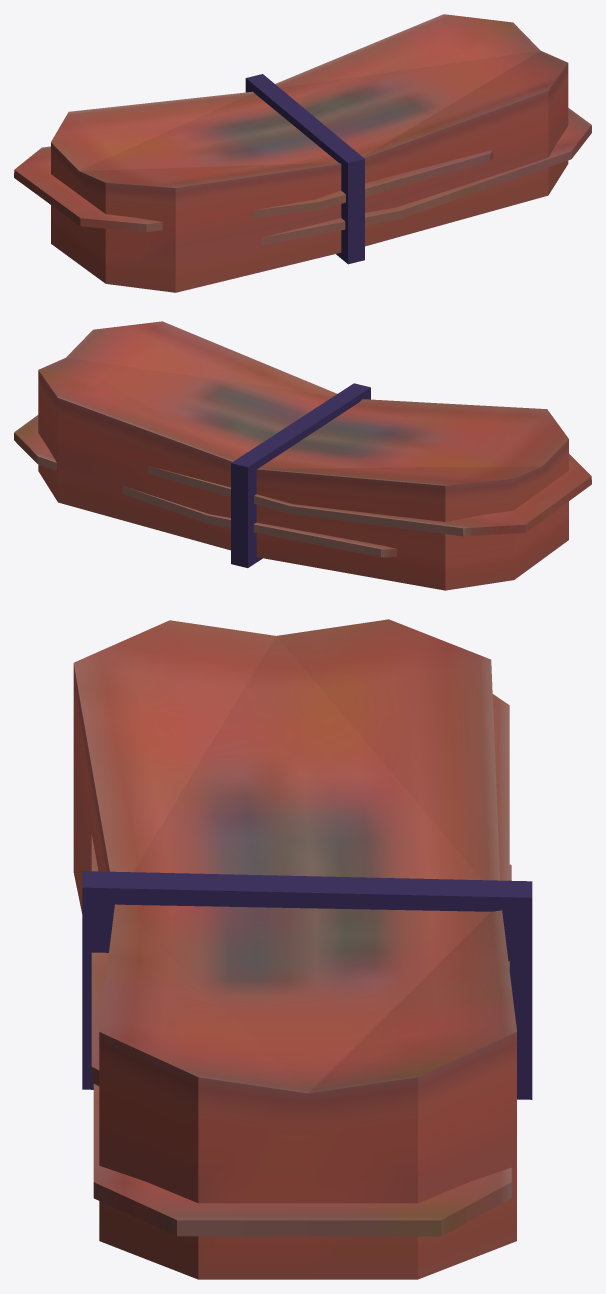
The model's file is SM_Prop_Ticket_03.glb.
3 renders of one model, top to bottom at view 1: azimuth 30°, elevation 25°; view 2: azimuth 150°, elevation 25°; view 3: azimuth 270°, elevation 25°, orthographic. The views are drawn at different scales.
Parts seen in each view (by area): view 1: SM_Prop_Ticket_03; view 2: SM_Prop_Ticket_03; view 3: SM_Prop_Ticket_03.
Part boxes in pixels (x1,y1,x2,y2): SM_Prop_Ticket_03: (14, 14, 591, 292); SM_Prop_Ticket_03: (14, 321, 591, 590); SM_Prop_Ticket_03: (73, 619, 532, 1279).
Size of the model in its own units: 23.11 by 5.21 by 8.98.
1 material, 1 textured.
